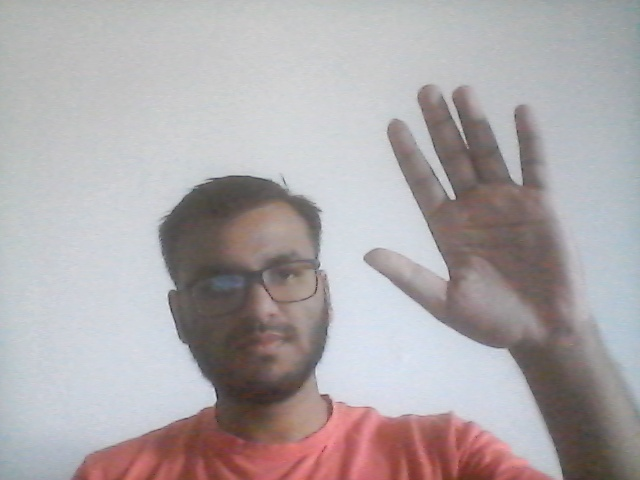Hello: (354, 80, 613, 344)
